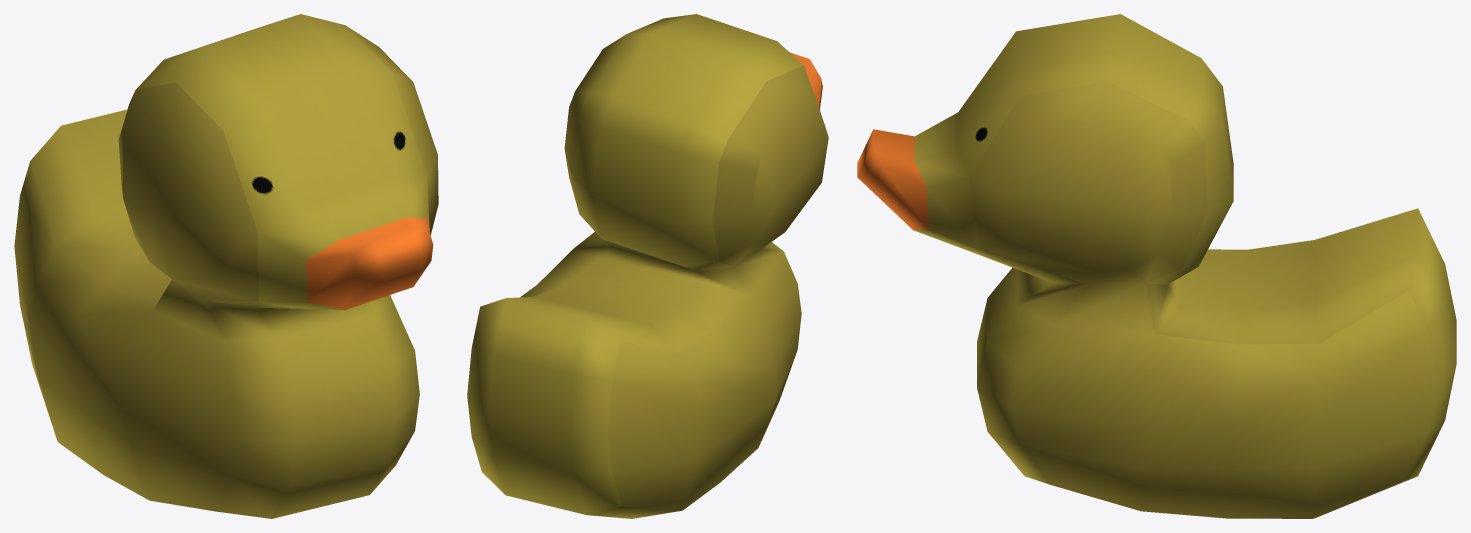
Rendered from Rubber_Duck.fbx.
3 views of the same model, side by side, from view 1: azimuth 30°, elevation 25°; view 2: azimuth 150°, elevation 25°; view 3: azimuth 270°, elevation 25° (orthographic). The views are drawn at different scales.
Parts seen in each view (by area): view 1: pCube30; view 2: pCube30; view 3: pCube30.
Boxes of the visible parts, <box> form: pCube30: <box>14,14,438,518</box>; pCube30: <box>467,14,828,518</box>; pCube30: <box>857,14,1456,518</box>.
Bounding box in the file's own units: 122 × 212 × 250.
